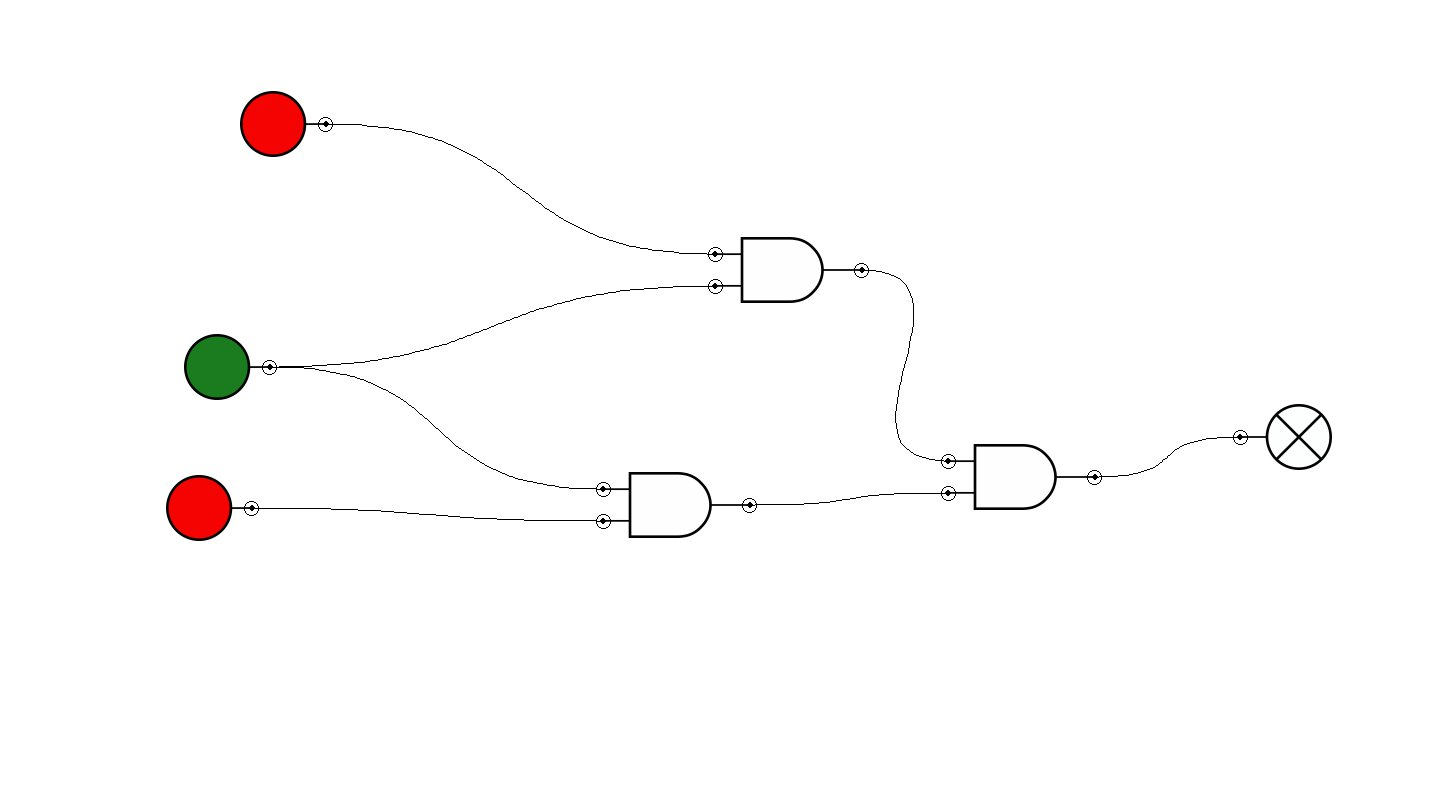and: (596, 472, 757, 538), (941, 444, 1102, 510), (708, 237, 869, 303)
bulb: (1233, 404, 1332, 470)
switch_False: (240, 91, 333, 157), (166, 475, 259, 541)
switch_True: (184, 334, 277, 400)
